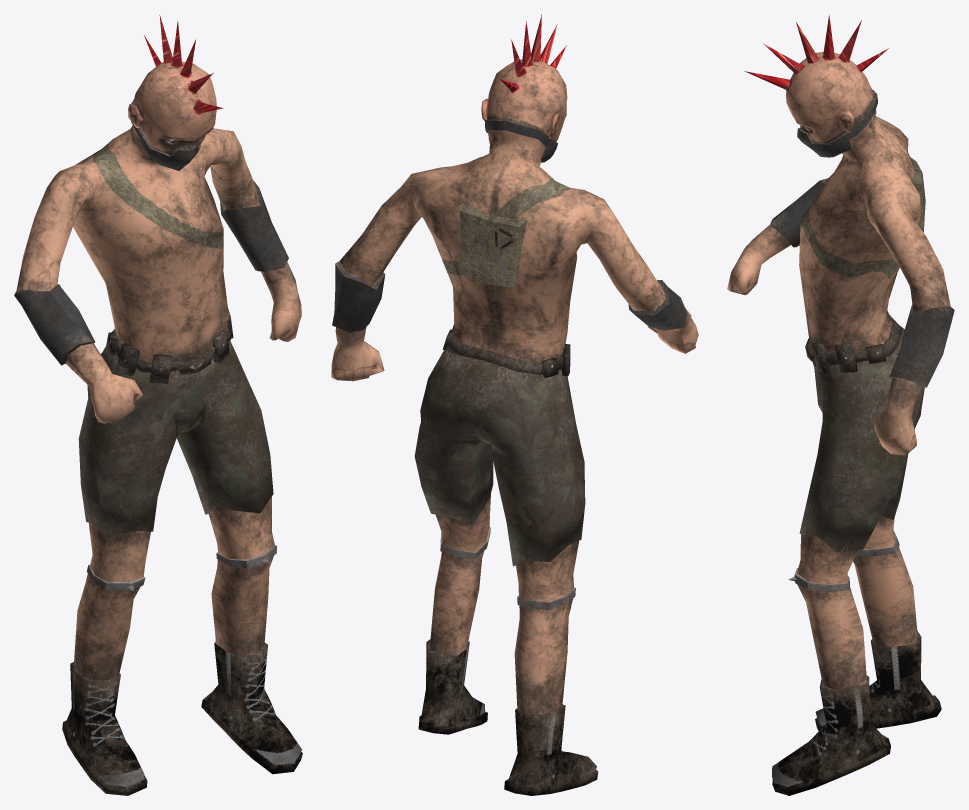
Rendered from Anim_cogerobjeto_npc2.0036.obj.
3 views of the same model, side by side, from view 1: azimuth 30°, elevation 25°; view 2: azimuth 150°, elevation 25°; view 3: azimuth 270°, elevation 25° (orthographic). The views are drawn at different scales.
Visible parts, largest first — view 1: polySurface1; view 2: polySurface1; view 3: polySurface1.
Part boxes in pixels (box(x1,y1,x2,y2)): polySurface1: box(14, 15, 302, 795); polySurface1: box(331, 14, 698, 795); polySurface1: box(727, 15, 954, 795).
Bounding box in the file's own units: 4.45 × 10.18 × 2.84.
